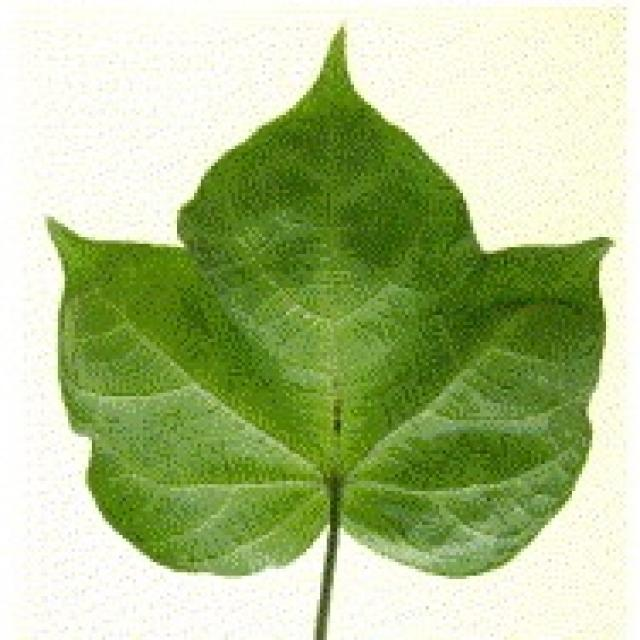Leaf Curl Virus: (139, 192, 523, 540)
